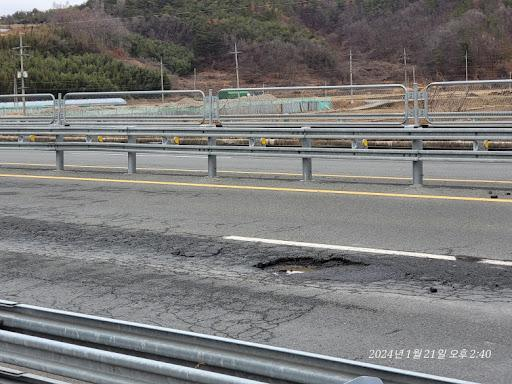pothole: (253, 239, 383, 278)
